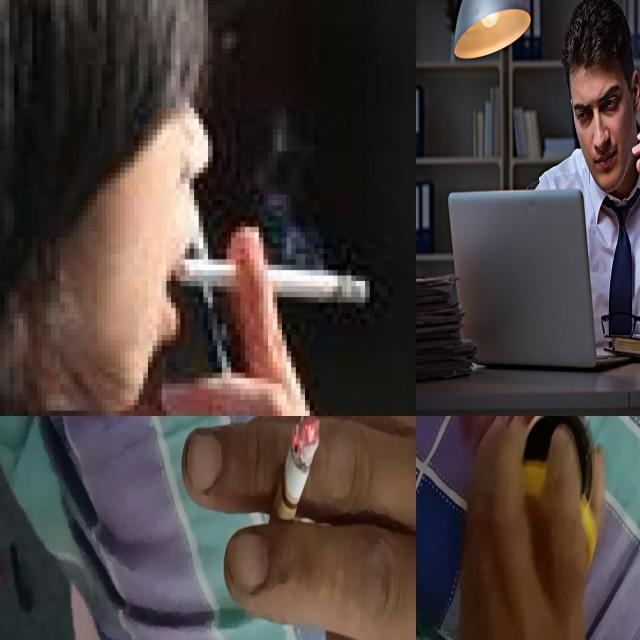smoking: (162, 238, 380, 318), (262, 416, 322, 547)
